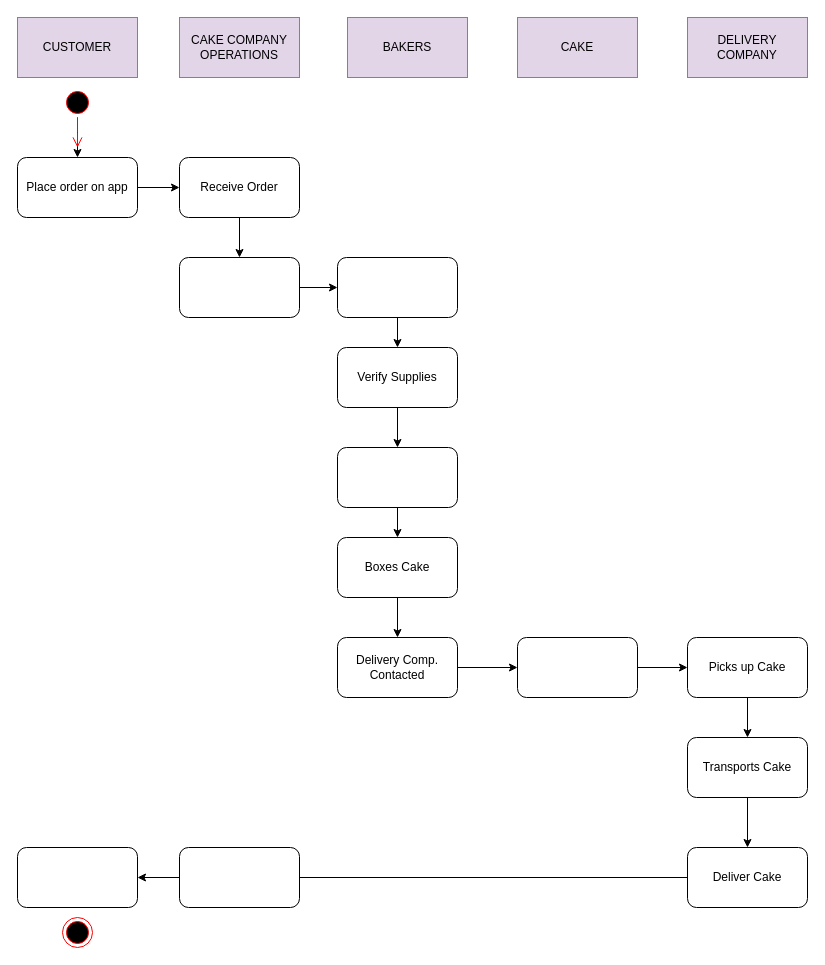
This 825x965 diagram has some shape labels left out. Each missing label, with the centre of its shape:
"Bakes Cake" belongs at point 397,477.
"Cake Waiting" belongs at point 577,667.
"Receive Cake" belongs at point 77,877.
"Receive Delivery Notice" belongs at point 239,877.
"Receive Verified Order" belongs at point 397,287.
"Verify Order with Customer" belongs at point 239,287.
